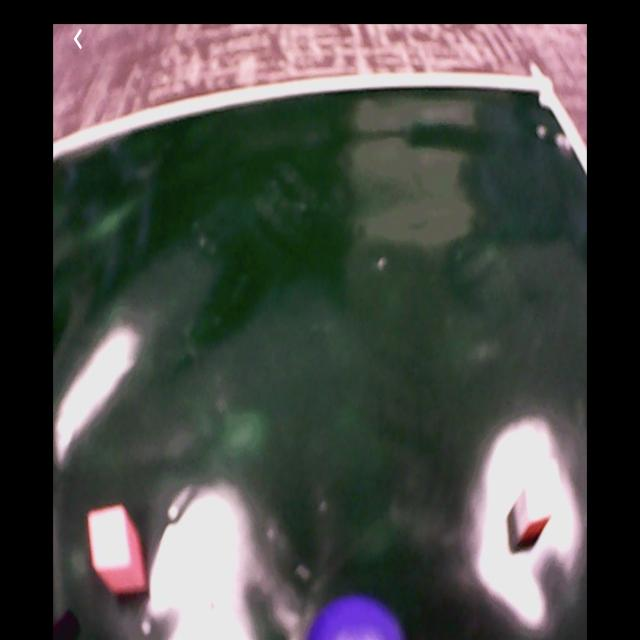ball: (304, 597, 403, 640)
